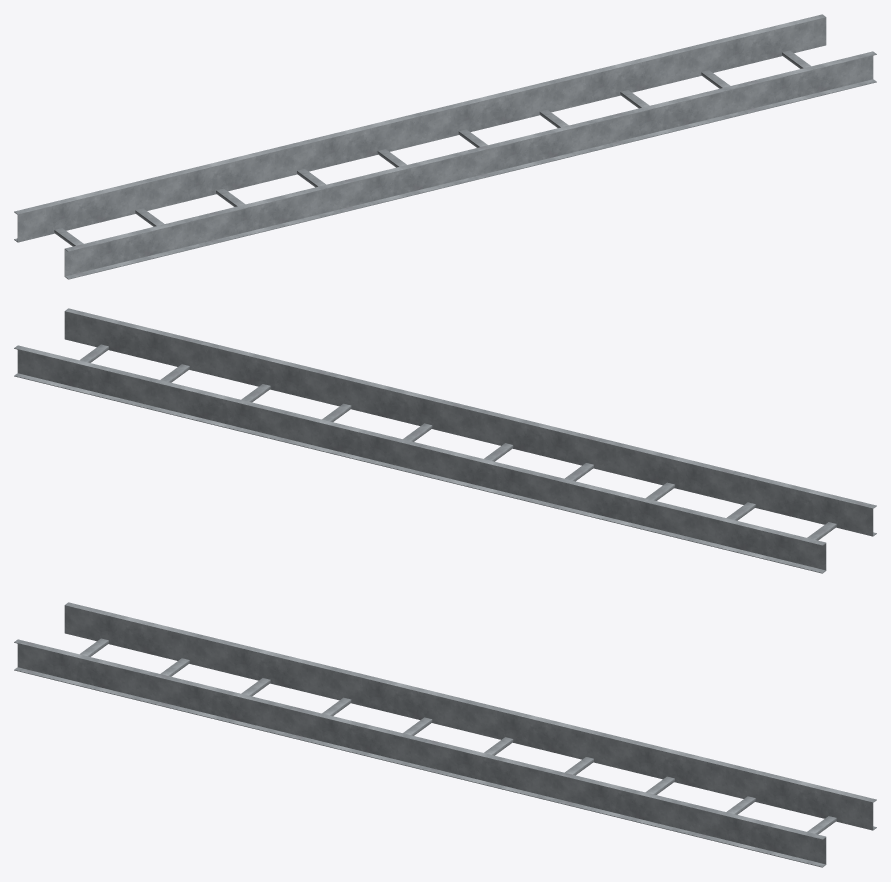
Rendered from ELE-ELD-007.glb.
3 views of the same model, one above another, from view 1: azimuth 30°, elevation 25°; view 2: azimuth 150°, elevation 25°; view 3: azimuth 330°, elevation 25° (orthographic).
Visible parts, largest first — view 1: ELE-ELD-007_longarina-1, ELE-ELD-007_longarina1; view 2: ELE-ELD-007_longarina1, ELE-ELD-007_longarina-1; view 3: ELE-ELD-007_longarina-1, ELE-ELD-007_longarina1.
Part boxes in pixels (x1,y1,x2,y2): ELE-ELD-007_longarina-1: (64, 51, 876, 279); ELE-ELD-007_longarina1: (14, 14, 826, 242); ELE-ELD-007_longarina1: (14, 345, 826, 573); ELE-ELD-007_longarina-1: (64, 308, 876, 536); ELE-ELD-007_longarina-1: (14, 639, 826, 867); ELE-ELD-007_longarina1: (64, 602, 876, 830).
Bounding box in the file's own units: 3 × 0.1 × 0.3501.
1 material, 1 textured.
